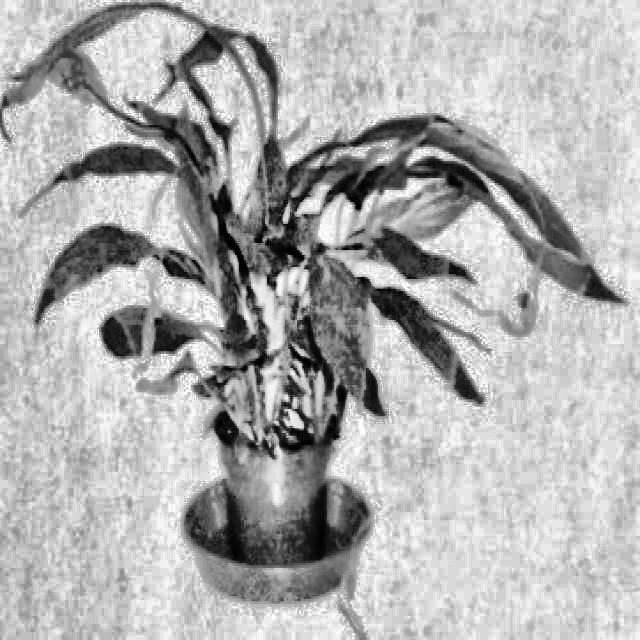plants: (1, 0, 632, 609), (10, 224, 162, 322), (511, 197, 629, 320), (307, 260, 386, 427), (384, 288, 487, 412), (18, 151, 182, 213), (379, 220, 476, 286), (88, 298, 194, 352)
